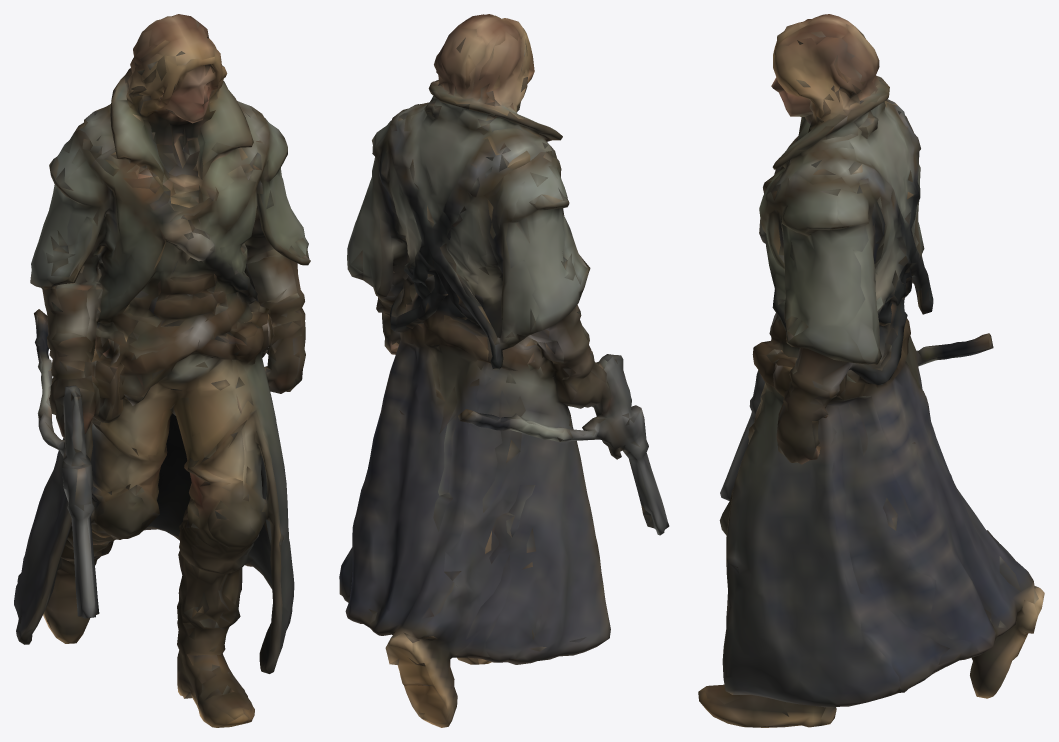
Rendered from Tam_final.glb.
3 renders of one model, left to right at view 1: azimuth 30°, elevation 25°; view 2: azimuth 150°, elevation 25°; view 3: azimuth 270°, elevation 25°, orthographic. The views are drawn at different scales.
Parts seen in each view (by area): view 1: Mesh1.0; view 2: Mesh1.0; view 3: Mesh1.0.
Boxes of the visible parts, x1,y1,x2,y2 form: Mesh1.0: (14,14,310,727); Mesh1.0: (339,14,669,727); Mesh1.0: (698,14,1044,727).
Bounding box in the file's own units: 0.7691 × 1.8 × 0.8184.
1 material, 1 textured.
